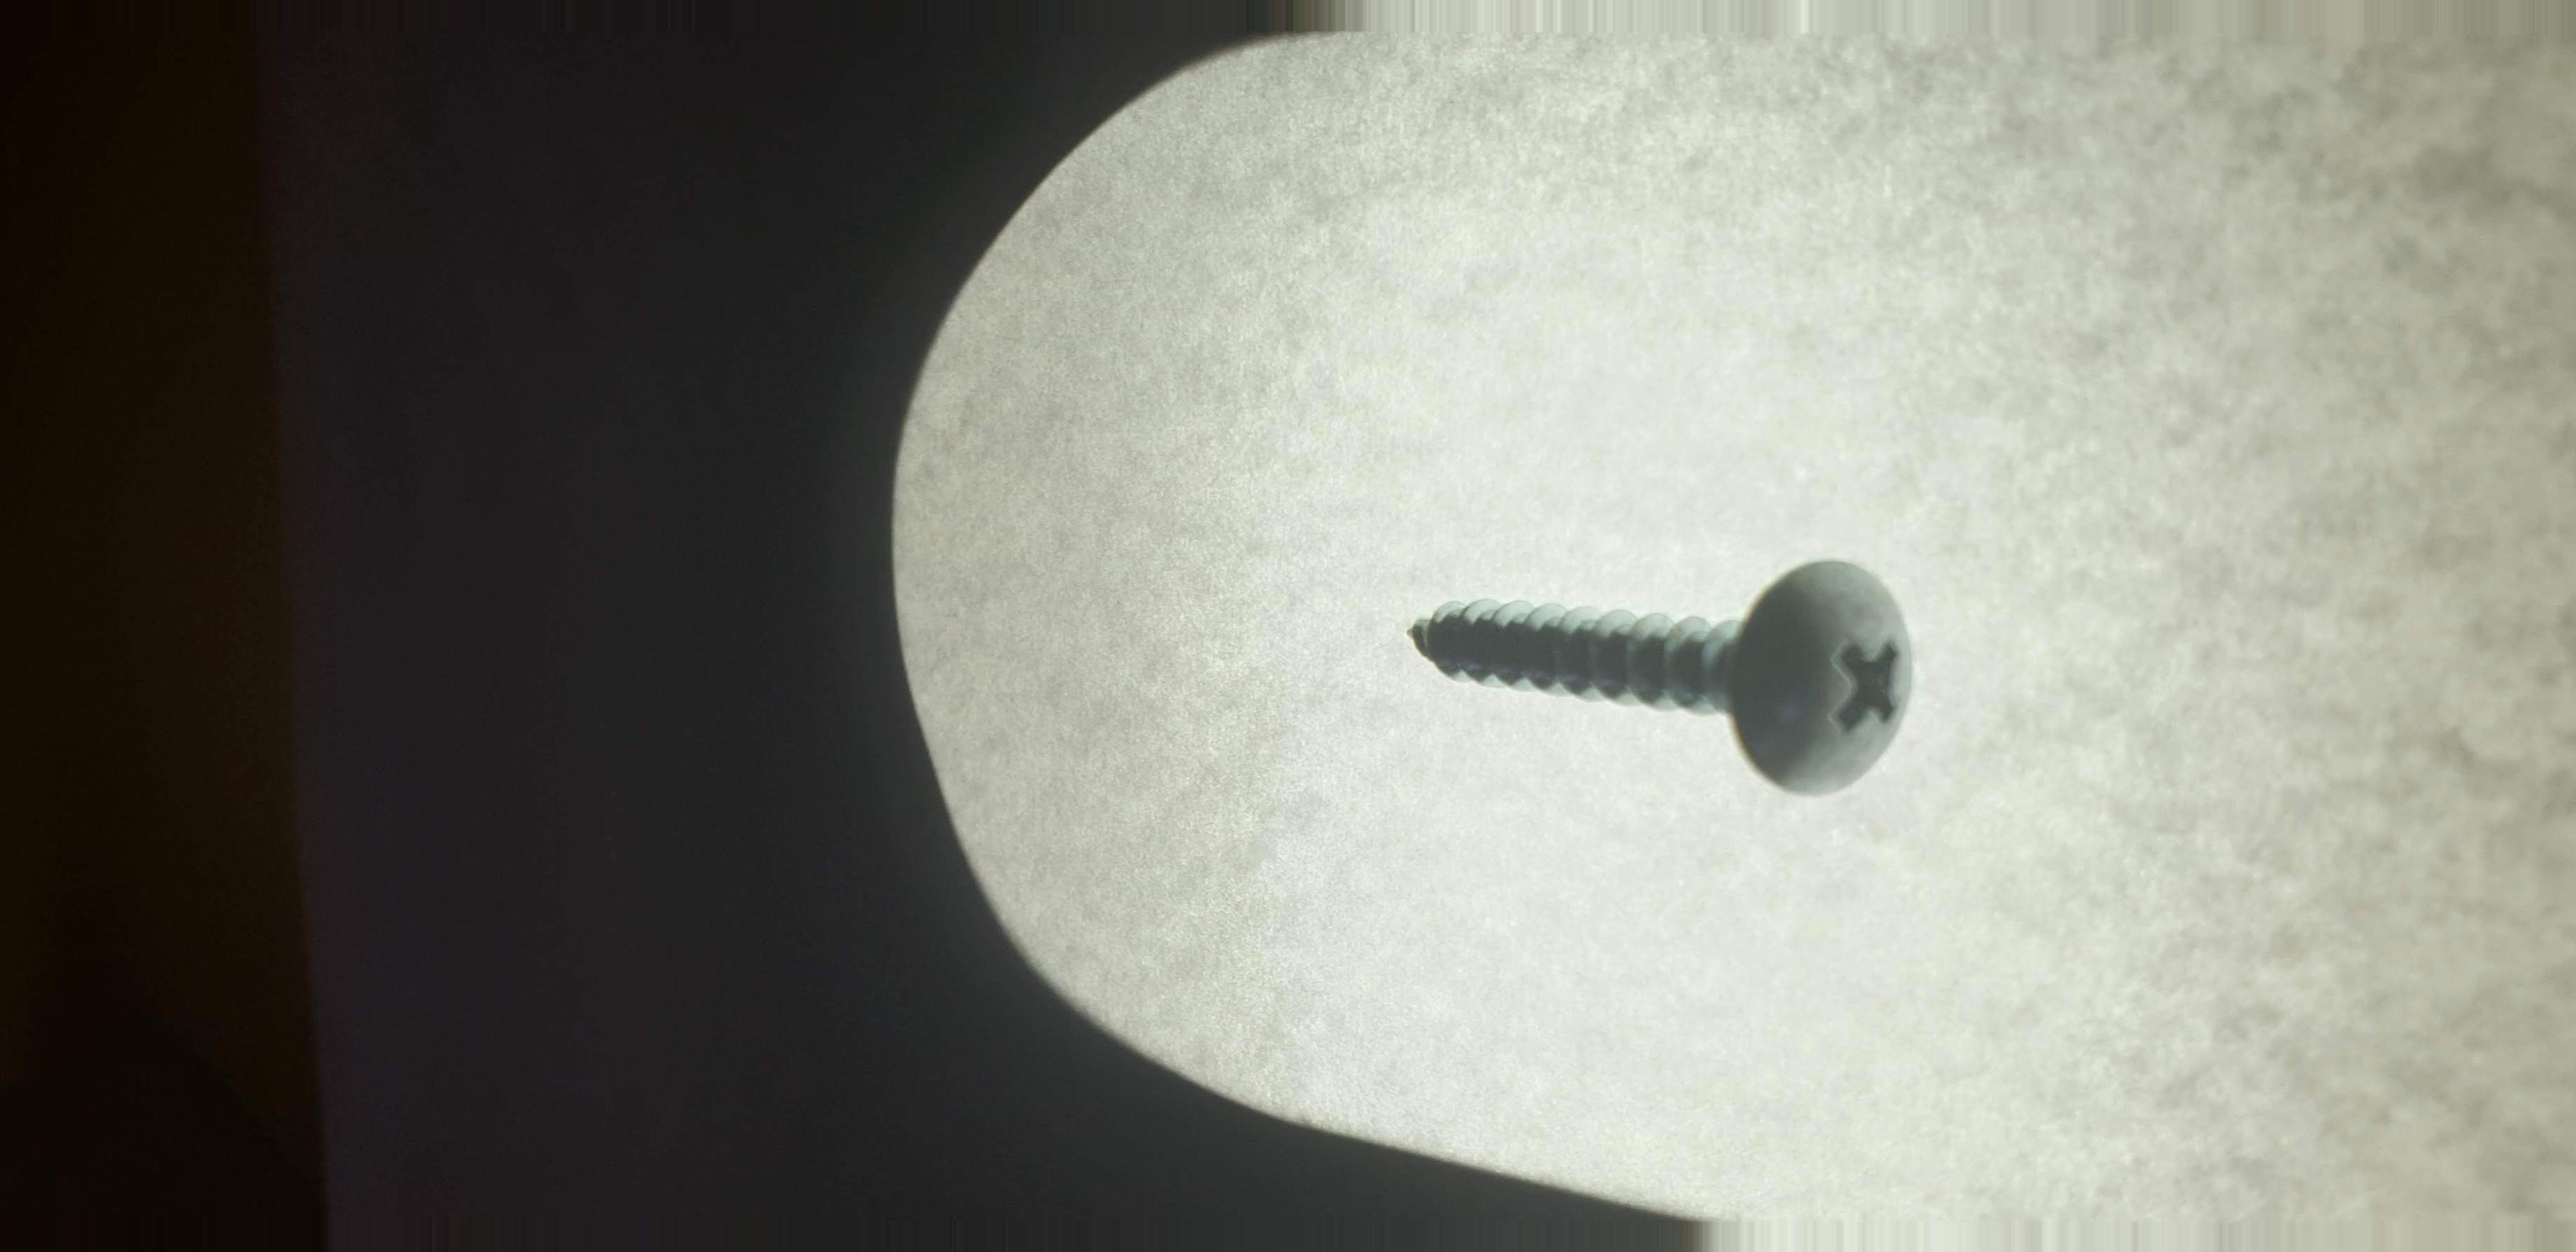S002: (1296, 465, 2013, 863)
